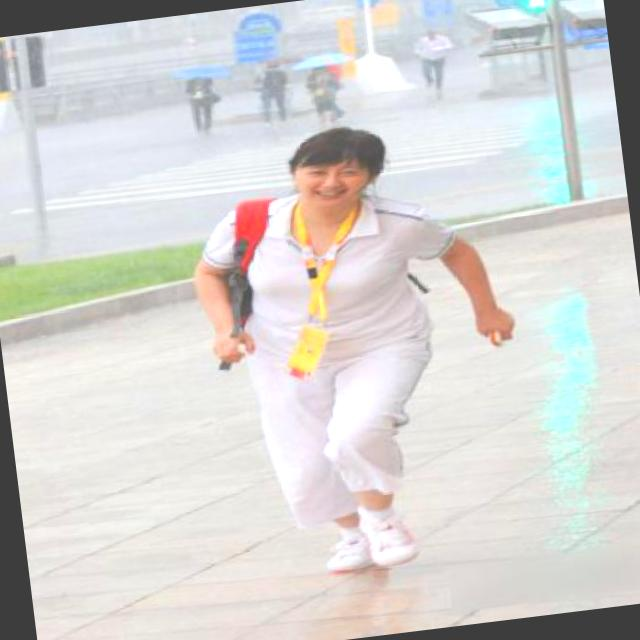Person: (154, 102, 560, 600)
